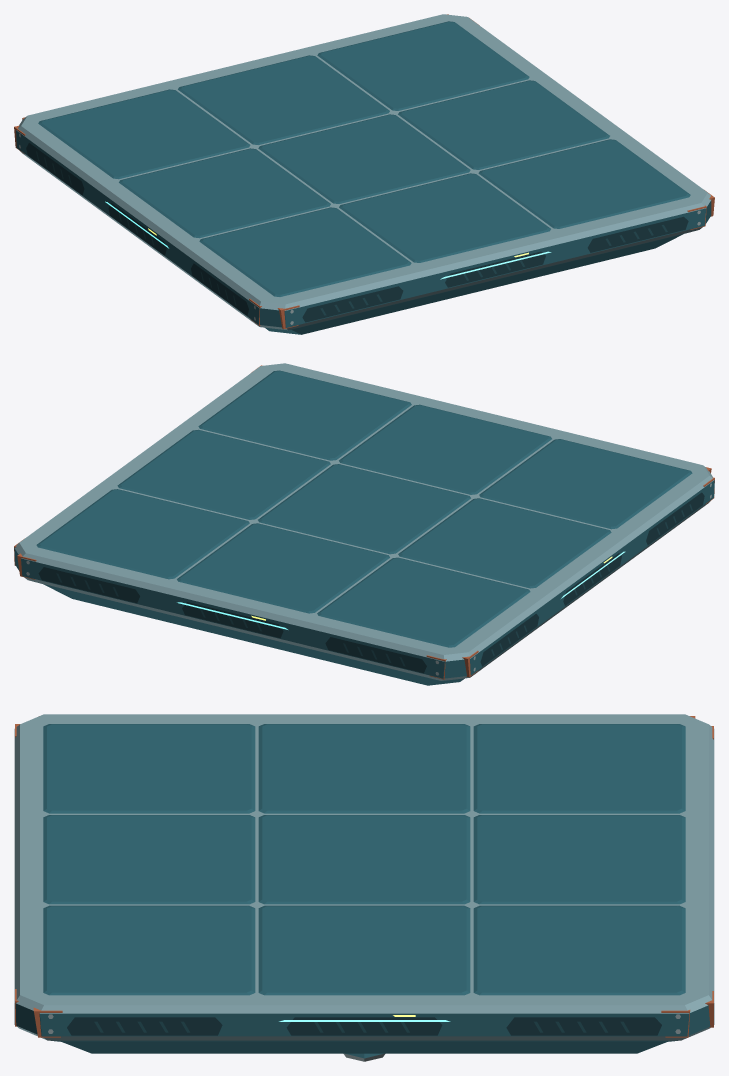
The model's file is board-chassis-undercarriage.glb.
3 views of the same model, one above another, from view 1: azimuth 30°, elevation 25°; view 2: azimuth 150°, elevation 25°; view 3: azimuth 270°, elevation 25° (orthographic). The views are drawn at different scales.
Visible parts, largest first — view 1: board-chassis-undercarriage; view 2: board-chassis-undercarriage; view 3: board-chassis-undercarriage.
Part boxes in pixels (x1,y1,x2,y2): board-chassis-undercarriage: (14, 14, 714, 334); board-chassis-undercarriage: (14, 363, 714, 685); board-chassis-undercarriage: (14, 714, 714, 1061).
Size of the model in its own units: 21.05 by 3.75 by 21.05.
